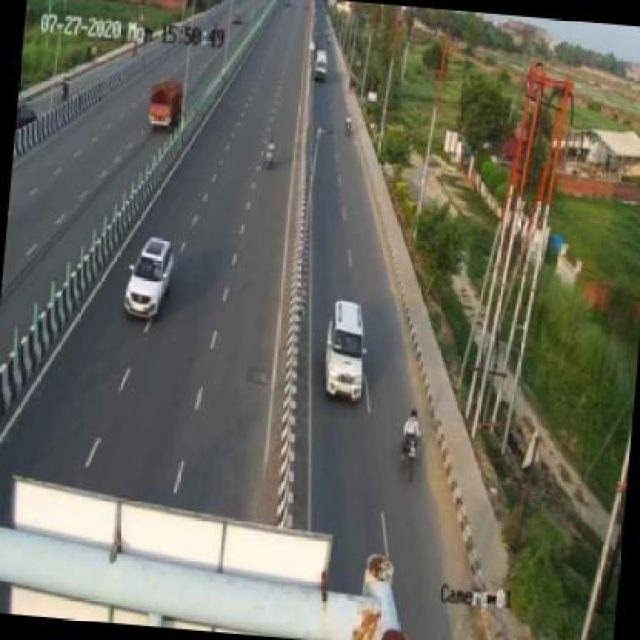car: (123, 232, 177, 323), (323, 302, 371, 402)
